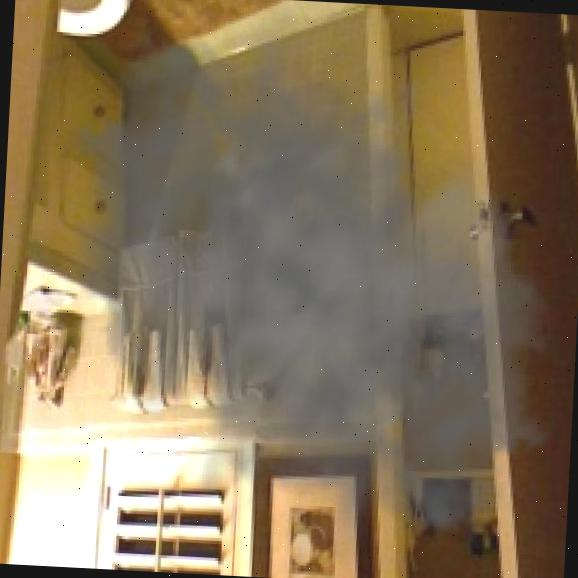smoke: (12, 0, 578, 578)
